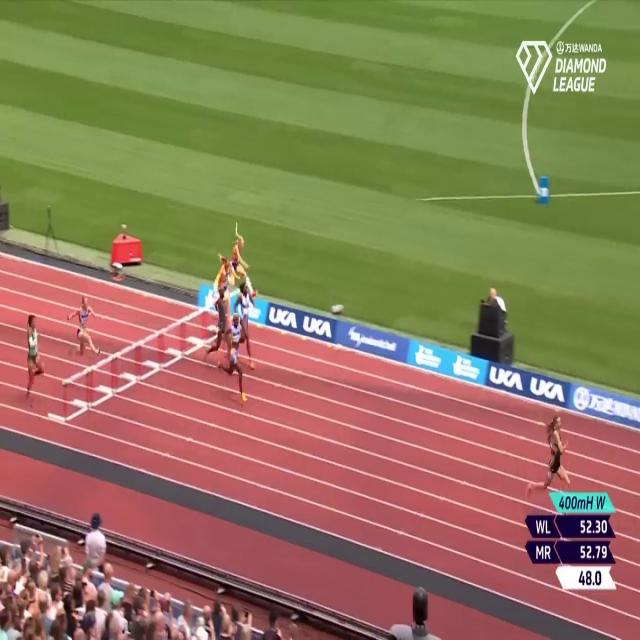athlete: (525, 406, 571, 514), (218, 308, 250, 413), (224, 223, 262, 300), (21, 307, 48, 412), (67, 296, 103, 370), (237, 284, 260, 374), (211, 286, 235, 372), (211, 251, 236, 325)
hurdle: (61, 370, 91, 422), (89, 352, 115, 407), (115, 343, 138, 400), (162, 317, 182, 374), (182, 310, 205, 359), (137, 333, 158, 385)
